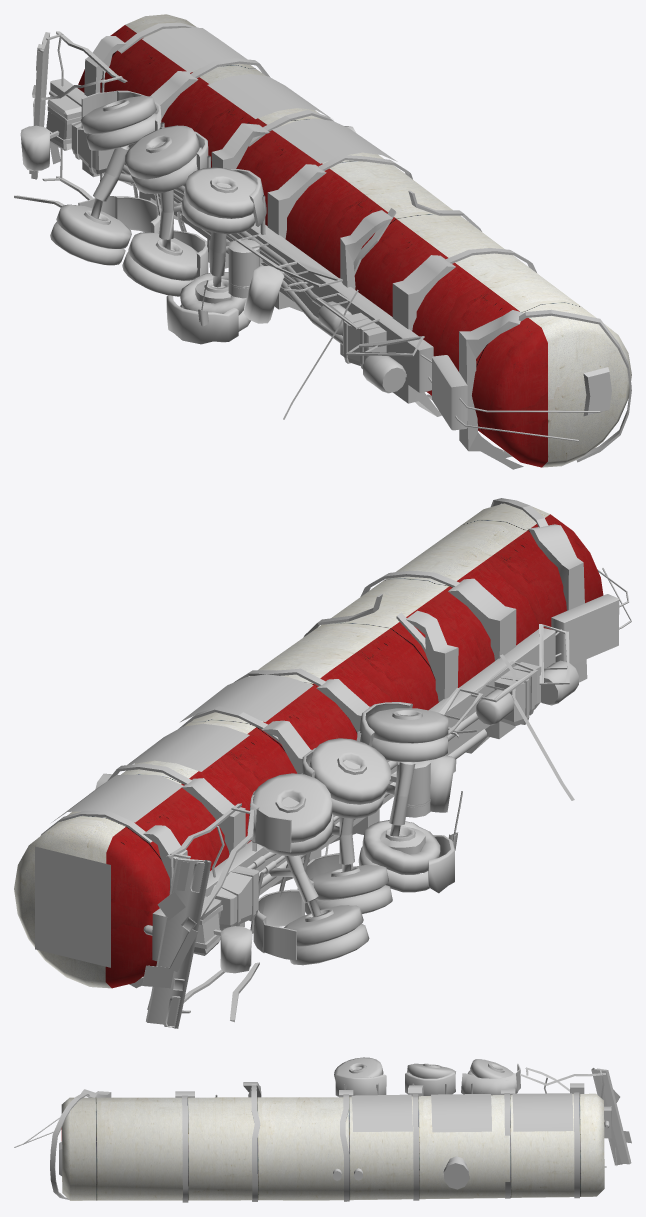
Rendered from Model_Trucks_Tanker_Crashed.fbx.
3 renders of one model, top to bottom at view 1: azimuth 30°, elevation 25°; view 2: azimuth 150°, elevation 25°; view 3: azimuth 270°, elevation 25°, orthographic. The views are drawn at different scales.
Parts seen in each view (by area): view 1: Truck_Back; view 2: Truck_Back; view 3: Truck_Back.
Part boxes in pixels (x1,y1,x2,y2): Truck_Back: (14, 14, 631, 469); Truck_Back: (14, 498, 631, 1028); Truck_Back: (14, 1057, 631, 1202).
Size of the model in its own units: 497 by 306 by 1542.
